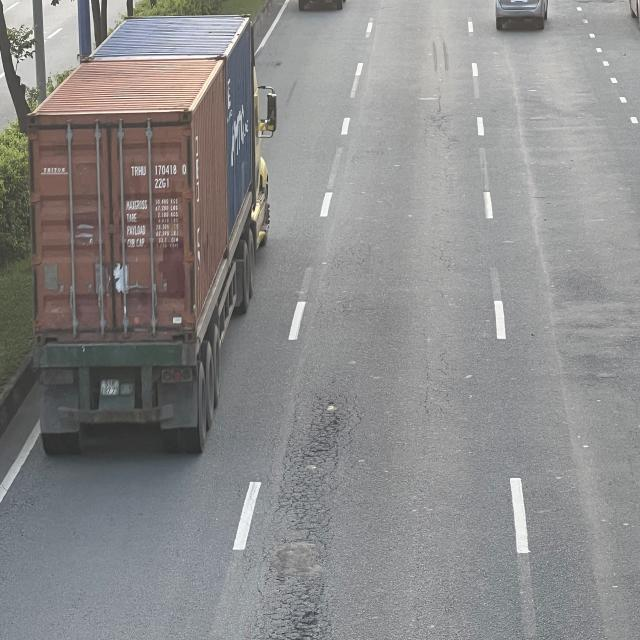container: (27, 9, 275, 450)
